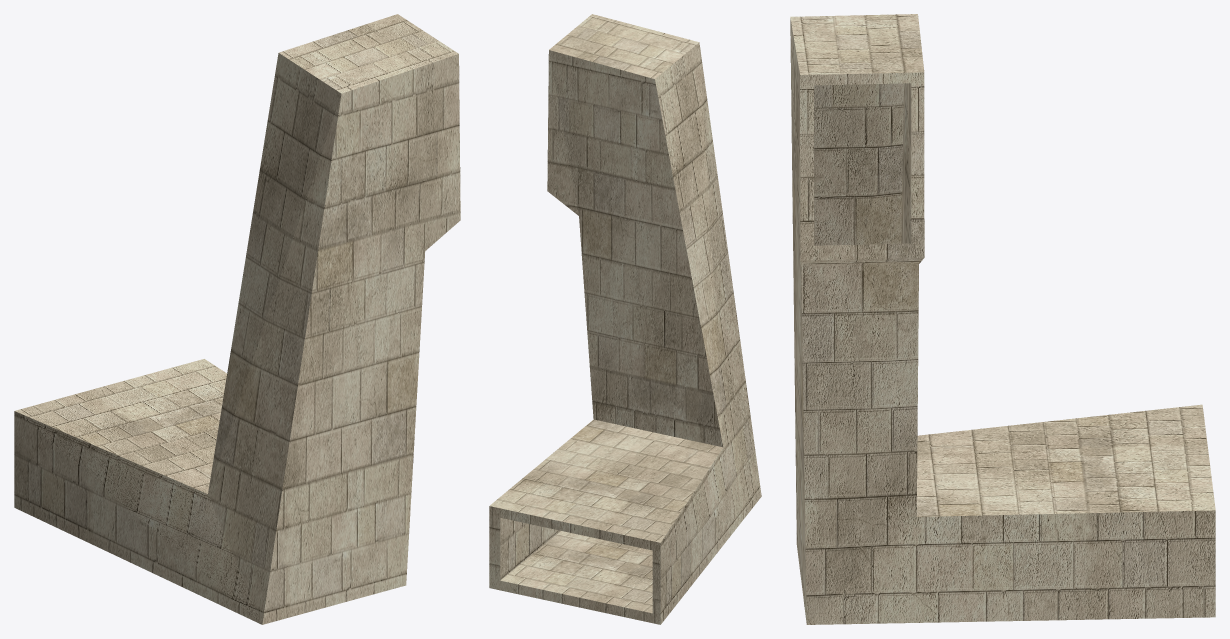
Rendered from walls_110.fbx.
The picture shows the model from 3 angles, left to right: view 1: azimuth 30°, elevation 25°; view 2: azimuth 150°, elevation 25°; view 3: azimuth 270°, elevation 25°; orthographic projection. The views are drawn at different scales.
Parts seen in each view (by area): view 1: walls_110; view 2: walls_110; view 3: walls_110.
Part boxes in pixels (x1=…): walls_110: x1=14, y1=14, x2=460, y2=624; walls_110: x1=489, y1=14, x2=761, y2=624; walls_110: x1=790, y1=14, x2=1215, y2=624.
Size of the model in its own units: 403 by 761 by 508.
